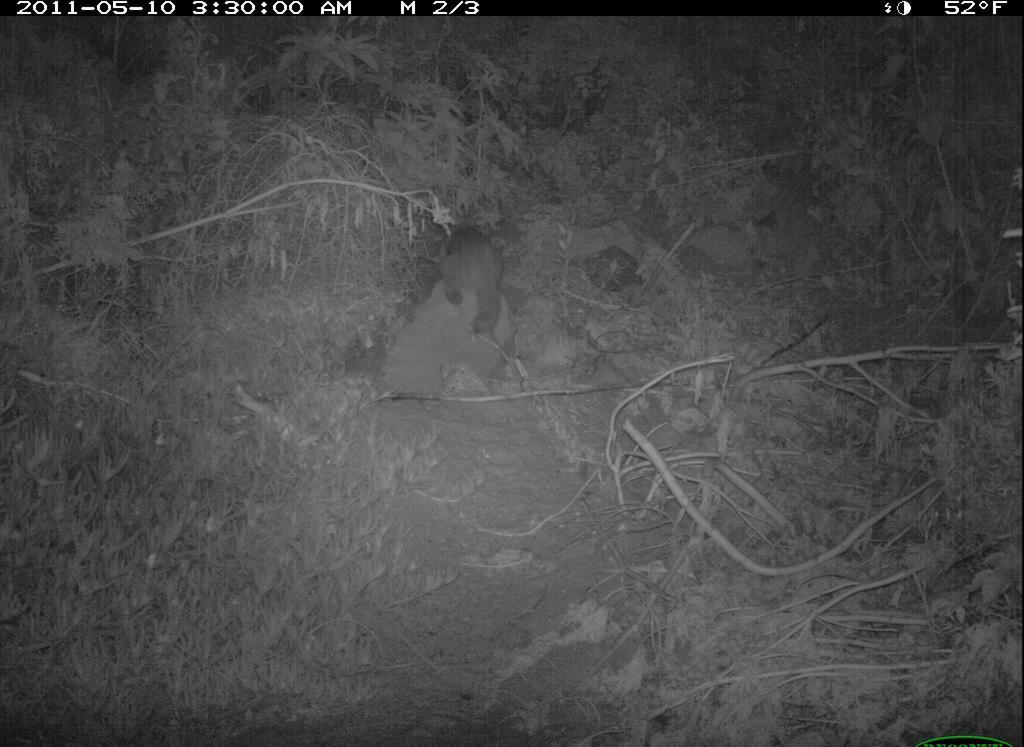raccoon: (433, 219, 515, 342)
